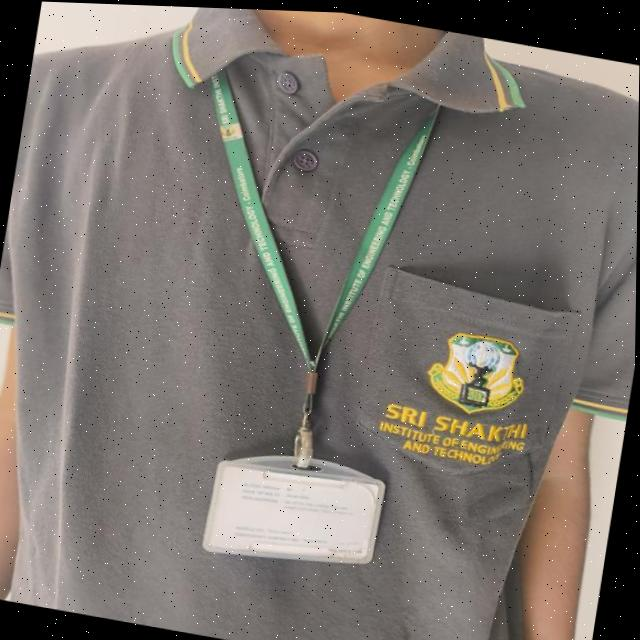id_card: (115, 36, 480, 596)
